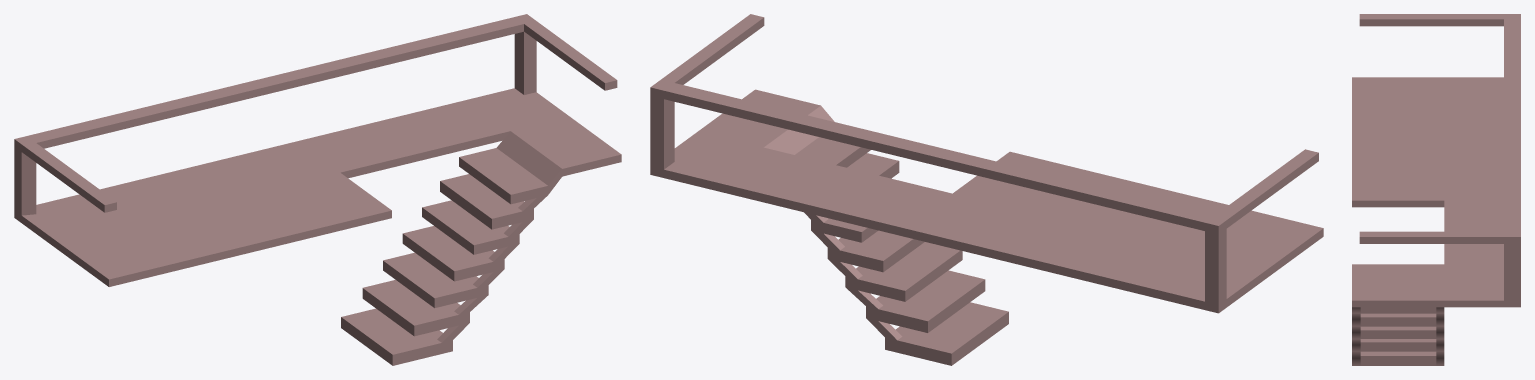
File: Container_Stairs_1.fbx
3 views of the same model, side by side, from view 1: azimuth 30°, elevation 25°; view 2: azimuth 150°, elevation 25°; view 3: azimuth 270°, elevation 25° (orthographic). The views are drawn at different scales.
Visible parts, largest first — view 1: pasted__pasted___pCube42; view 2: pasted__pasted___pCube42; view 3: pasted__pasted___pCube42.
Boxes of the visible parts, bbox=[...] form: pasted__pasted___pCube42: bbox=[14, 14, 621, 365]; pasted__pasted___pCube42: bbox=[650, 14, 1323, 365]; pasted__pasted___pCube42: bbox=[1352, 14, 1520, 365].
Size of the model in its own units: 8.7 by 3.68 by 2.78.
